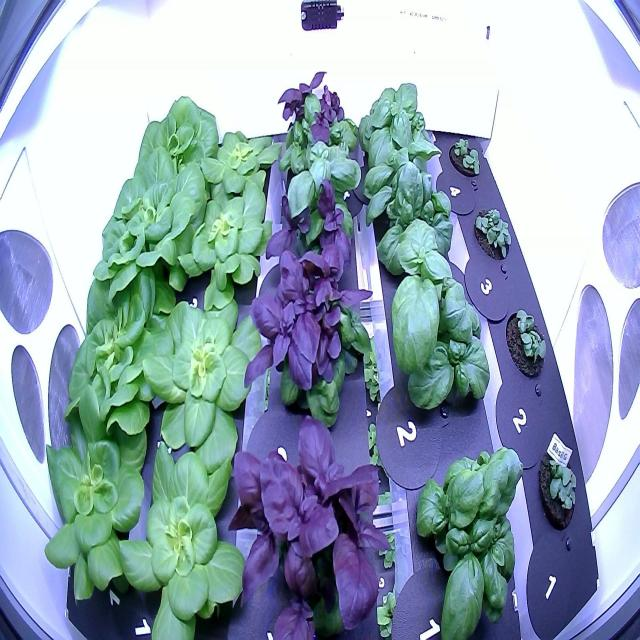germination: (533, 435, 583, 539), (502, 301, 552, 388), (444, 125, 486, 183)
young: (111, 438, 262, 640), (52, 249, 179, 467), (136, 268, 265, 482), (37, 384, 154, 610), (86, 143, 212, 318), (173, 173, 270, 315), (130, 88, 225, 220), (195, 108, 285, 218)
